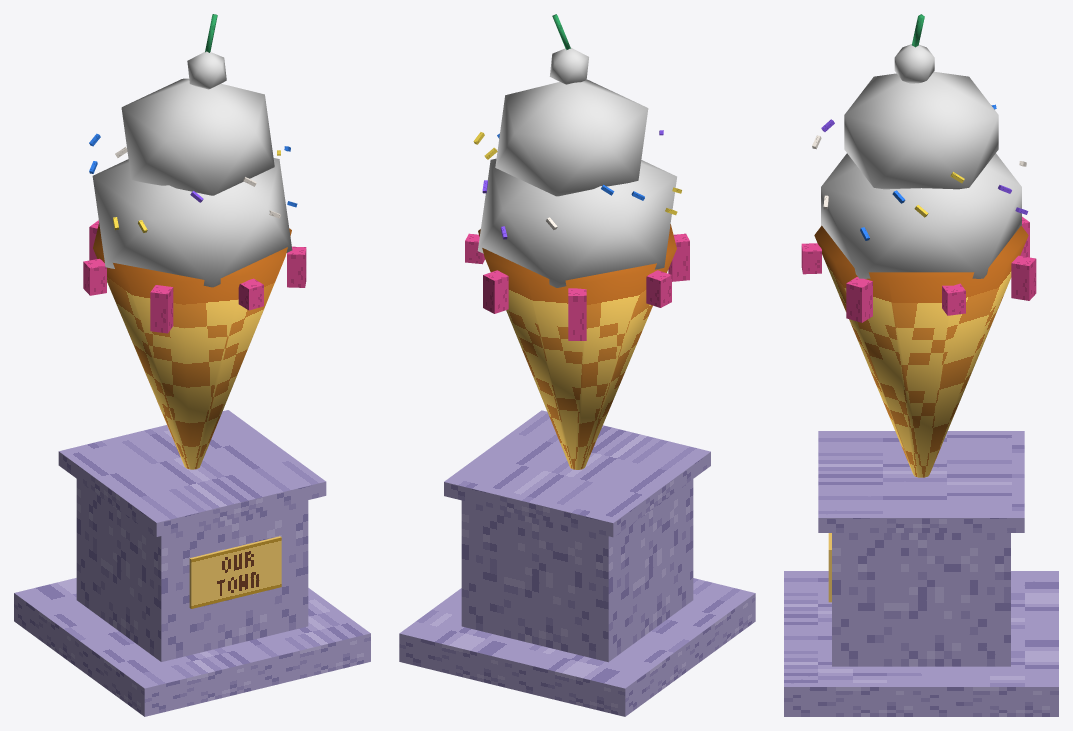
File: Cone Statue.fbx
3 renders of one model, left to right at view 1: azimuth 30°, elevation 25°; view 2: azimuth 150°, elevation 25°; view 3: azimuth 270°, elevation 25°, orthographic. The views are drawn at different scales.
Visible parts, largest first — view 1: Cone Statue plinth, Cone Statue step, Cone Statue cap, Cone Statue cone, Cone Statue scoop low, Cone Statue scoop high, Cone Statue plaque, Cone Statue cherry, Cone Statue drip 4, Cone Statue drip 3, Cone Statue drip 6, Cone Statue drip 5; view 2: Cone Statue plinth, Cone Statue step, Cone Statue cap, Cone Statue cone, Cone Statue scoop low, Cone Statue scoop high, Cone Statue cherry, Cone Statue drip 1, Cone Statue drip 2, Cone Statue drip 3, Cone Statue drip 4; view 3: Cone Statue plinth, Cone Statue step, Cone Statue cone, Cone Statue cap, Cone Statue scoop low, Cone Statue scoop high, Cone Statue cherry, Cone Statue drip 6, Cone Statue drip 1, Cone Statue drip 0, Cone Statue drip 5.
Boxes of the visible parts, x1,y1,x2,y2 form: Cone Statue plinth: (76, 479, 308, 661); Cone Statue step: (14, 578, 370, 716); Cone Statue cap: (58, 410, 326, 536); Cone Statue cone: (93, 223, 291, 469); Cone Statue scoop low: (92, 158, 292, 287); Cone Statue scoop high: (121, 78, 274, 195); Cone Statue plaque: (189, 536, 281, 608); Cone Statue cherry: (187, 51, 226, 89); Cone Statue drip 4: (150, 285, 173, 333); Cone Statue drip 3: (83, 258, 106, 295); Cone Statue drip 6: (287, 246, 306, 287); Cone Statue drip 5: (238, 278, 263, 310); Cone Statue plinth: (461, 479, 693, 662); Cone Statue step: (399, 578, 755, 716); Cone Statue cap: (444, 410, 710, 537); Cone Statue cone: (478, 224, 676, 469); Cone Statue scoop low: (477, 158, 676, 287); Cone Statue scoop high: (495, 79, 648, 196); Cone Statue cherry: (549, 47, 588, 84); Cone Statue drip 1: (483, 270, 508, 313); Cone Statue drip 2: (568, 288, 586, 340); Cone Statue drip 3: (646, 270, 671, 307); Cone Statue drip 4: (668, 233, 689, 281); Cone Statue plinth: (832, 533, 1010, 666); Cone Statue step: (784, 571, 1058, 716); Cone Statue cone: (814, 225, 1028, 477); Cone Statue cap: (818, 431, 1024, 532); Cone Statue scoop low: (821, 153, 1021, 278); Cone Statue scoop high: (844, 71, 998, 189); Cone Statue cherry: (894, 44, 934, 83); Cone Statue drip 6: (846, 277, 872, 322); Cone Statue drip 1: (1011, 255, 1036, 300); Cone Statue drip 0: (942, 283, 965, 315); Cone Statue drip 5: (801, 243, 821, 274).
Bounding box in the file's own units: 2 × 5.26 × 2.
12 materials, 9 textured.
